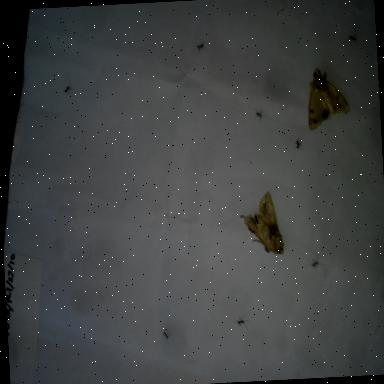abw: (236, 187, 288, 260), (302, 61, 354, 133)
